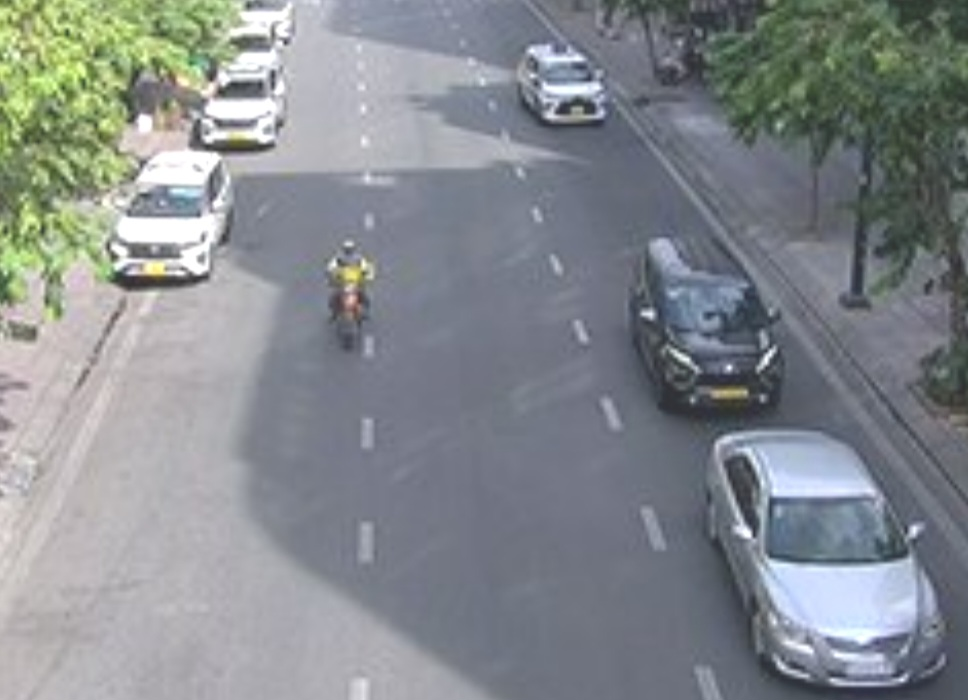car: (700, 432, 952, 688), (624, 237, 787, 417), (111, 154, 234, 283), (513, 45, 611, 128), (197, 65, 288, 150)
